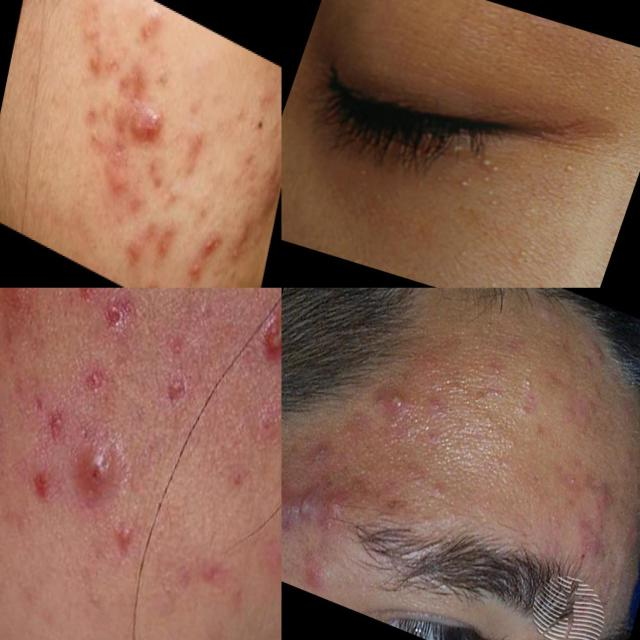acne_scars: (187, 540, 237, 604)
comedone: (51, 557, 132, 640), (513, 358, 542, 400)
cystic: (58, 416, 138, 531), (127, 92, 167, 156), (291, 483, 327, 528), (282, 494, 300, 538)
milium: (548, 152, 596, 201), (593, 88, 621, 127), (474, 152, 512, 180), (524, 141, 553, 168), (347, 161, 377, 186), (481, 184, 507, 210), (445, 134, 471, 158), (451, 242, 479, 262), (453, 171, 477, 192), (508, 243, 532, 261), (613, 124, 631, 146), (479, 171, 497, 189)
papule: (546, 384, 616, 452), (284, 548, 334, 595), (574, 521, 616, 569), (581, 476, 617, 519), (119, 229, 147, 272), (150, 222, 177, 266), (614, 517, 640, 548), (103, 166, 125, 198)
pustule: (375, 376, 413, 427), (105, 513, 140, 564), (198, 276, 224, 288)
sebo-crystan-conglo: (236, 289, 282, 383), (196, 212, 223, 270)
